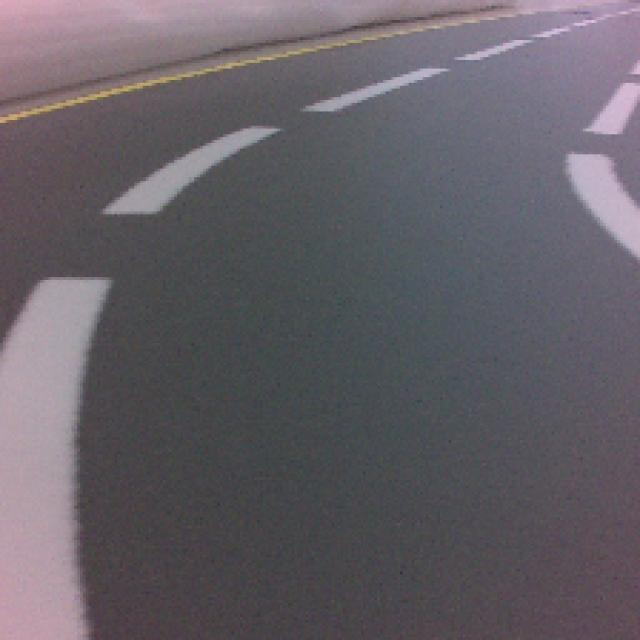Road: (75, 464, 638, 638)
